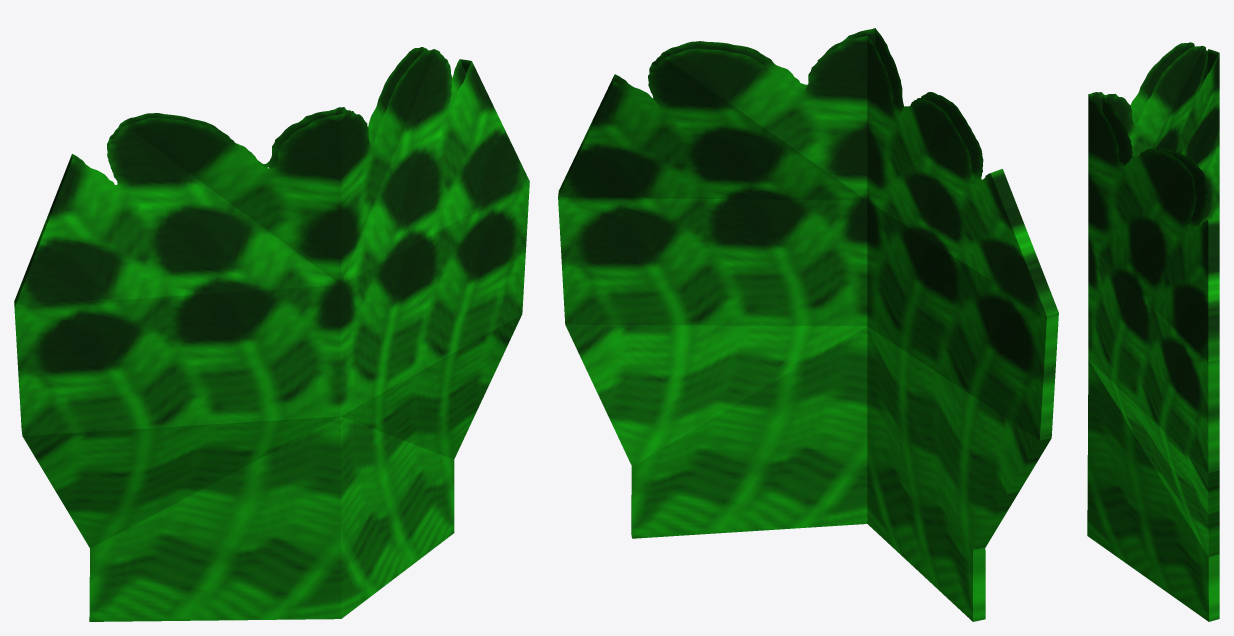
The model's file is helmet_pure_dec_1.dae.
The picture shows the model from 3 angles, left to right: view 1: azimuth 30°, elevation 25°; view 2: azimuth 150°, elevation 25°; view 3: azimuth 270°, elevation 25°; orthographic projection. The views are drawn at different scales.
Parts seen in each view (by area): view 1: cocar_pure_2.002; view 2: cocar_pure_2.002; view 3: cocar_pure_2.002.
Boxes of the visible parts, x1,y1,x2,y2 form: cocar_pure_2.002: [14, 47, 529, 621]; cocar_pure_2.002: [558, 28, 1058, 621]; cocar_pure_2.002: [1087, 42, 1219, 621].
Size of the model in its own units: 0.4054 by 0.103 by 0.3973.
